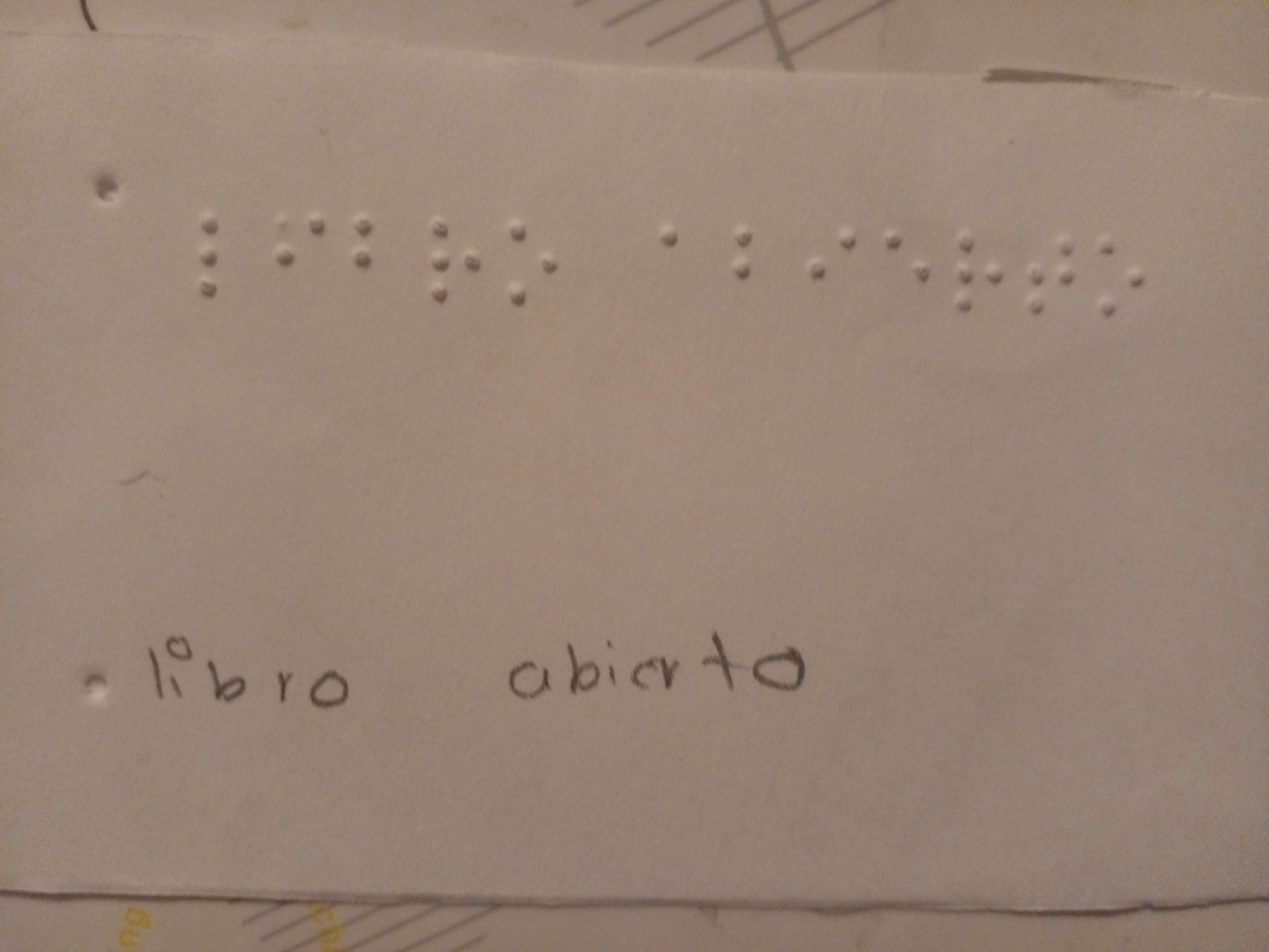a: (641, 205, 703, 313)
b: (342, 195, 418, 316), (713, 212, 781, 316)
e: (871, 203, 942, 330)
i: (256, 195, 338, 318), (792, 206, 869, 322)
l: (180, 192, 248, 335)
o: (1092, 212, 1171, 373), (496, 201, 564, 338)
r: (426, 192, 493, 333), (948, 209, 1010, 353)
t: (1018, 212, 1089, 363)
